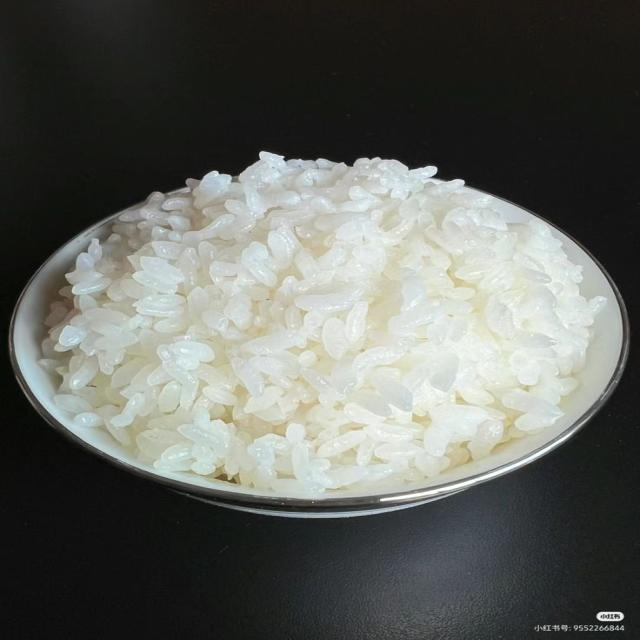rice: (41, 153, 604, 495)
